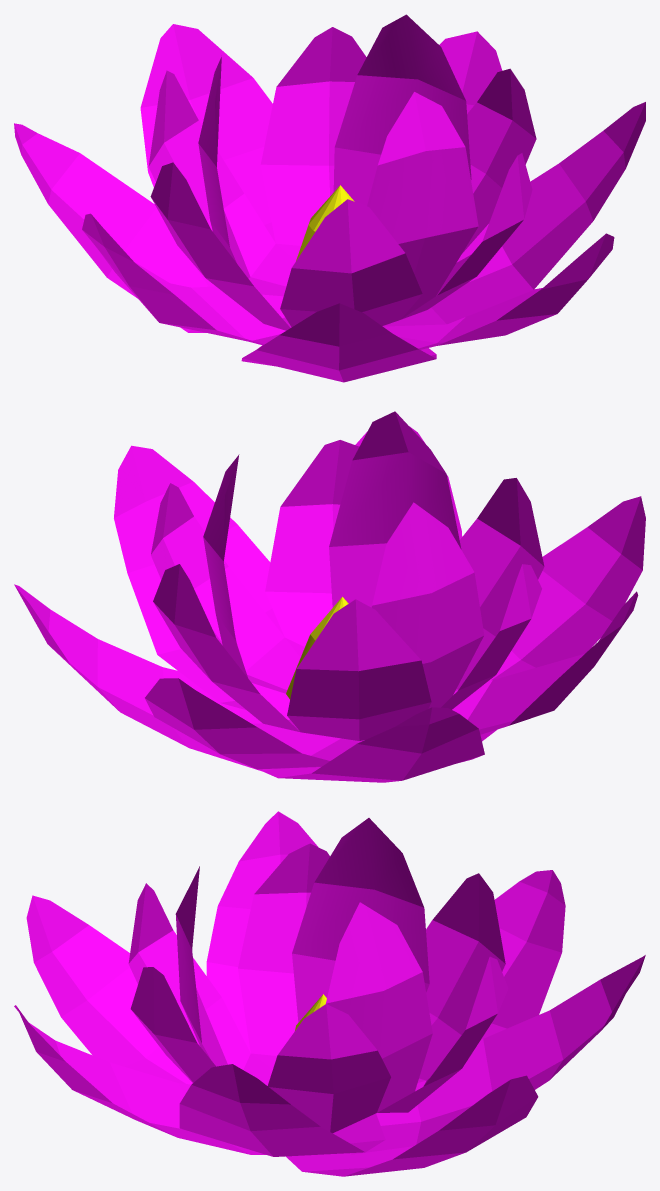
File: M_Lotus.fbx
The picture shows the model from 3 angles, top to bottom: view 1: azimuth 30°, elevation 25°; view 2: azimuth 150°, elevation 25°; view 3: azimuth 270°, elevation 25°; orthographic projection. The views are drawn at different scales.
Visible parts, largest first — view 1: M_Lotus; view 2: M_Lotus; view 3: M_Lotus.
Boxes of the visible parts, x1,y1,x2,y2 form: M_Lotus: [14, 14, 645, 382]; M_Lotus: [14, 411, 645, 782]; M_Lotus: [14, 811, 645, 1176].
Bounding box in the file's own units: 5.03 × 2.64 × 5.33.
